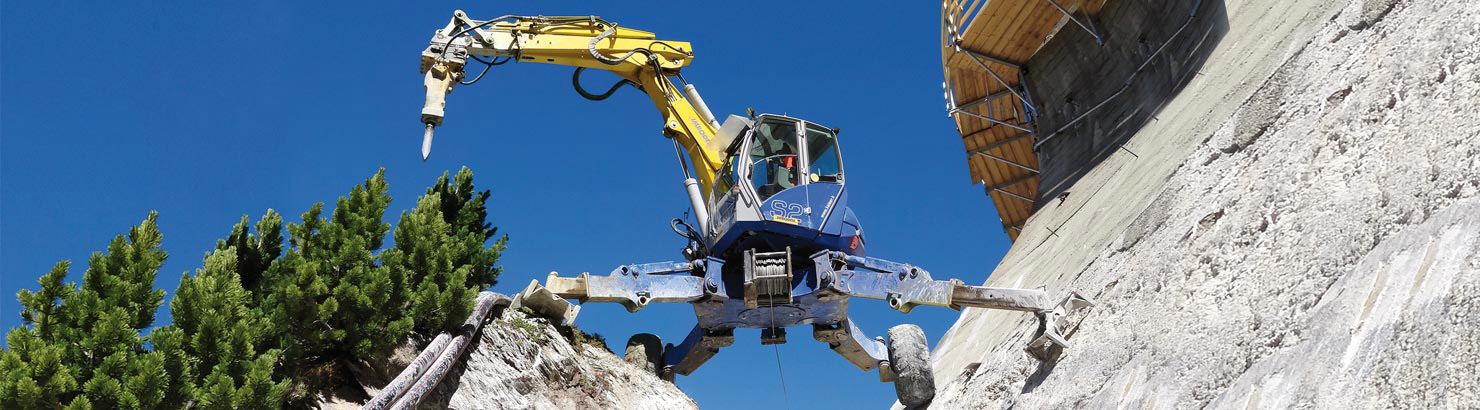backhoe: (410, 6, 998, 353)
